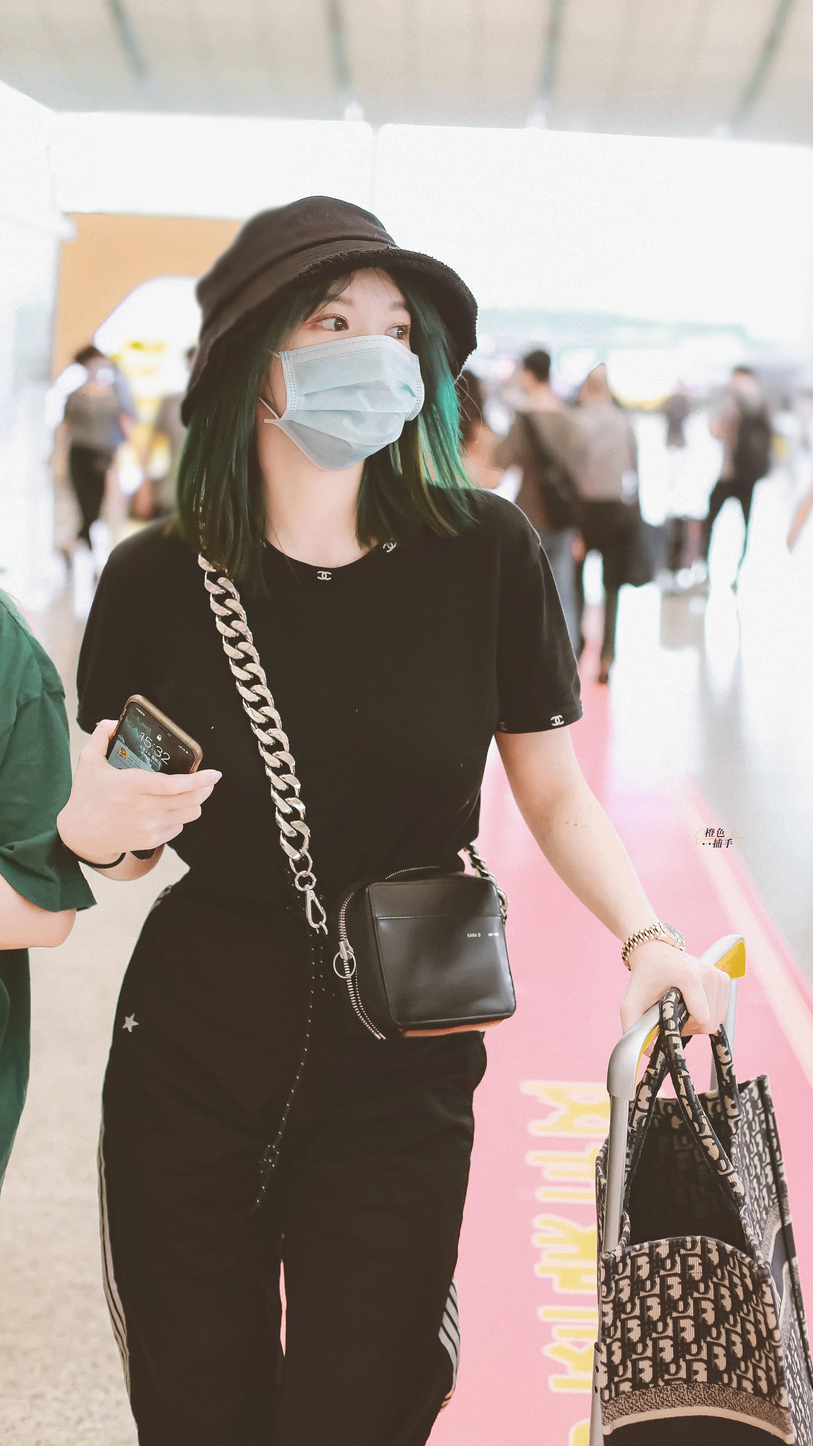OK: (275, 268, 423, 465)
